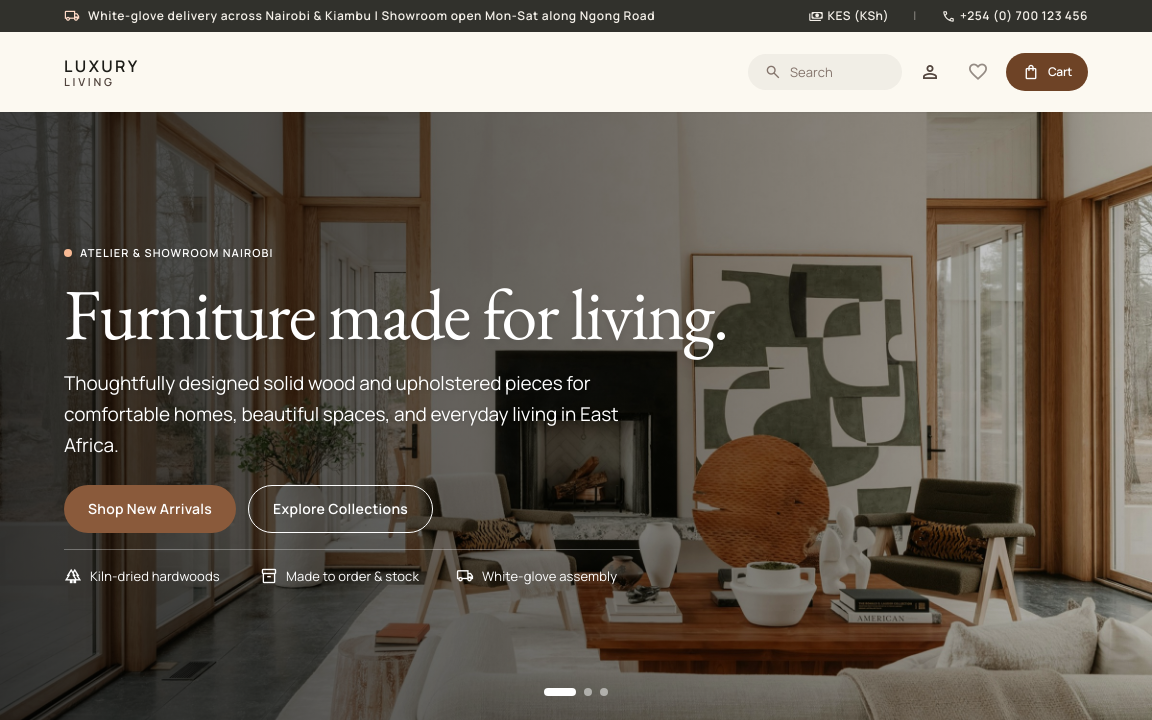
Scenario: signing in › closes the dialog with Escape
Click the button named "Account": {"x": 930, "y": 72} left=910, top=52, right=950, bottom=92
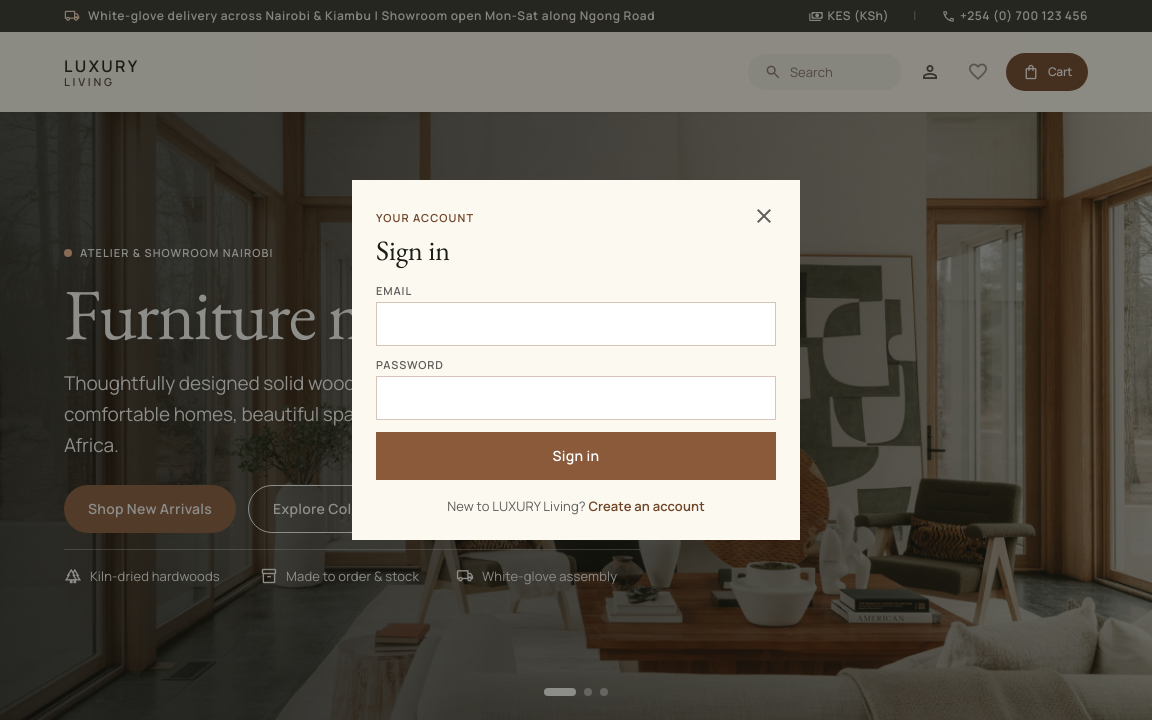
Check: the dialog is shown, box left=352, top=180, right=800, bottom=540
Press Escape
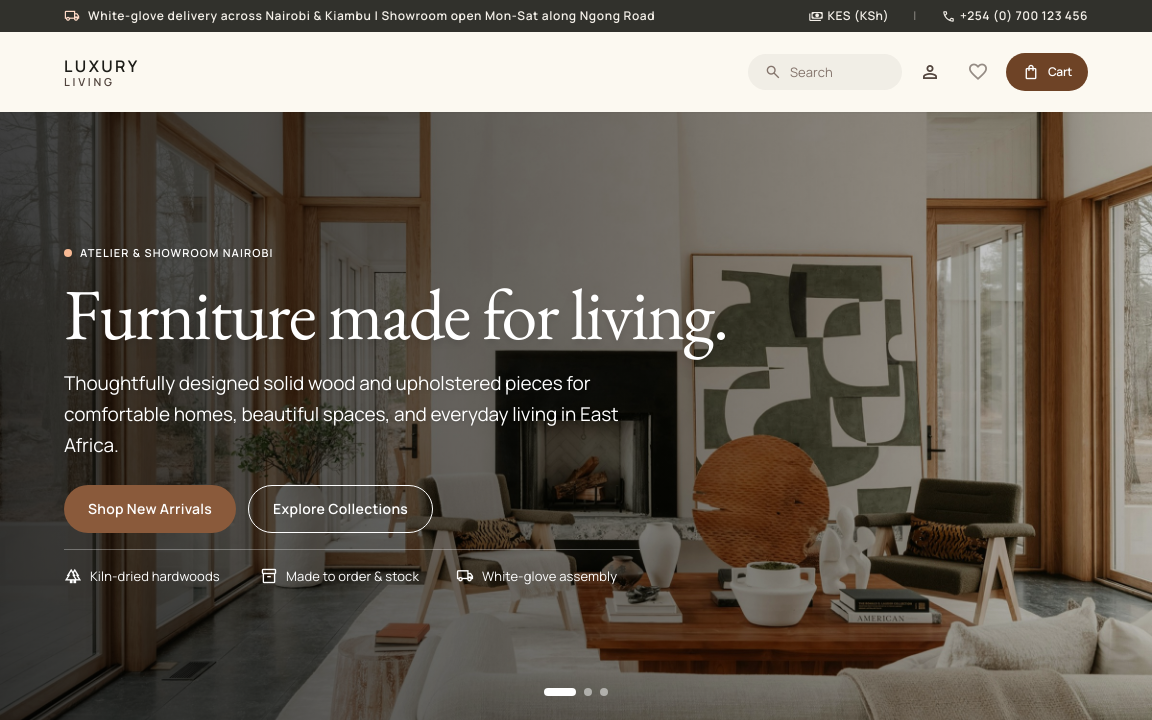
Check: the dialog is gone
